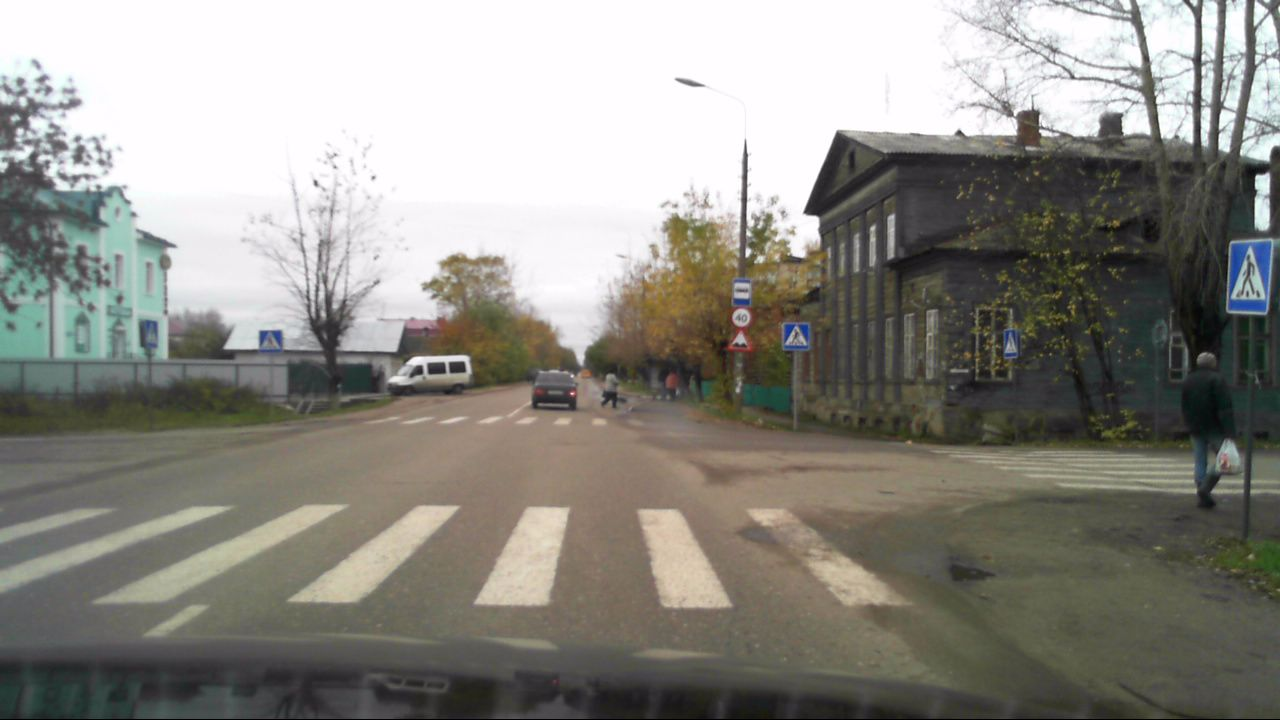speed_warning_40: (731, 307, 751, 327)
